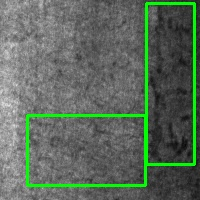crazing: (27, 115, 145, 185), (146, 3, 194, 164)
